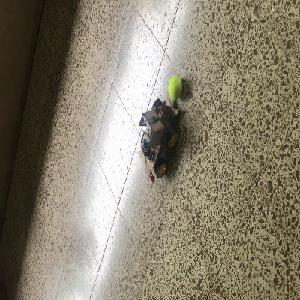Ball: (167, 76, 182, 99)
Robot: (136, 98, 179, 178)
